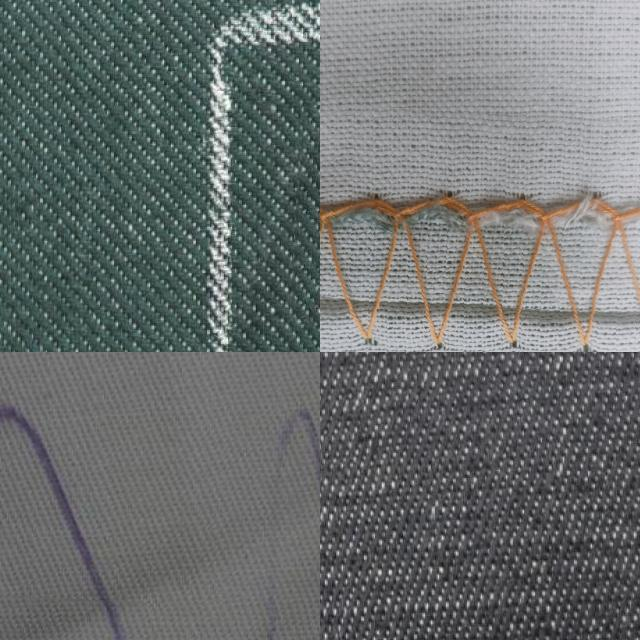Thread_out: (320, 103, 640, 352)
stains: (0, 593, 320, 640), (286, 105, 320, 352)
